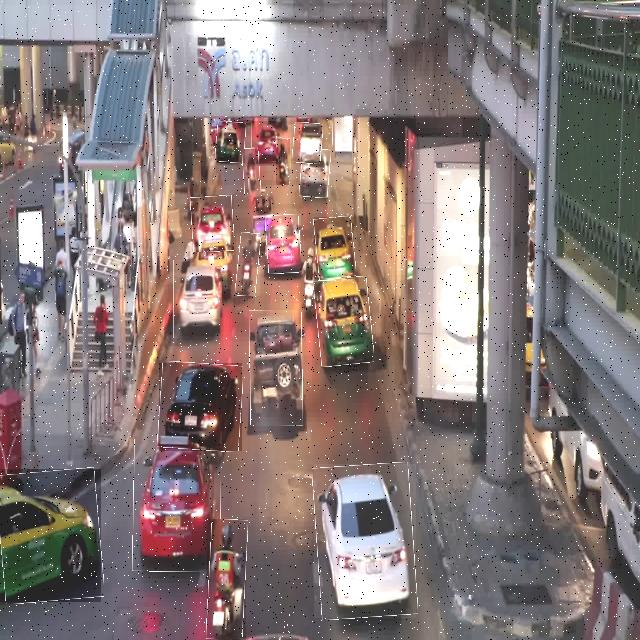Car: (314, 464, 416, 618), (0, 469, 101, 602), (132, 440, 220, 572), (159, 363, 242, 451), (315, 278, 372, 366), (173, 260, 222, 338), (314, 217, 354, 279), (191, 195, 234, 252), (266, 214, 301, 274), (300, 149, 330, 198), (251, 122, 282, 164), (216, 121, 245, 163), (294, 122, 322, 164)
Motorcycle: (207, 519, 246, 640), (236, 233, 260, 296), (243, 148, 260, 197), (276, 138, 290, 185)
Truck: (250, 310, 303, 426)
